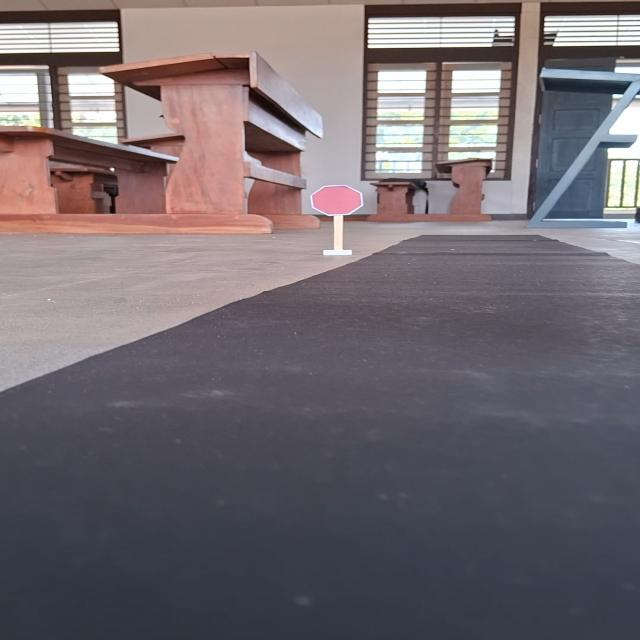Stop: (309, 184, 364, 217)
